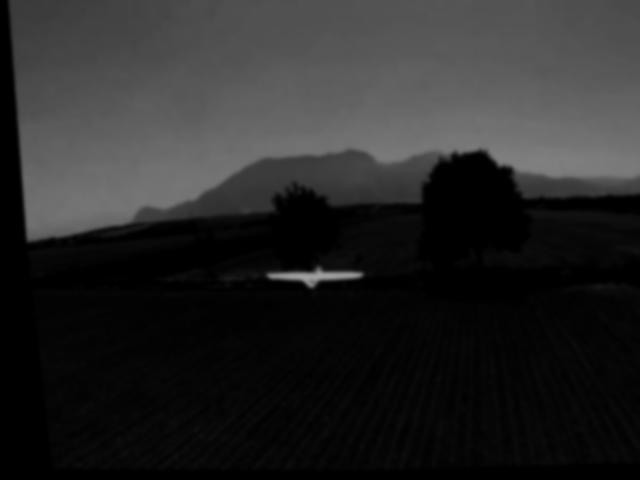hedef: (258, 259, 363, 306)
